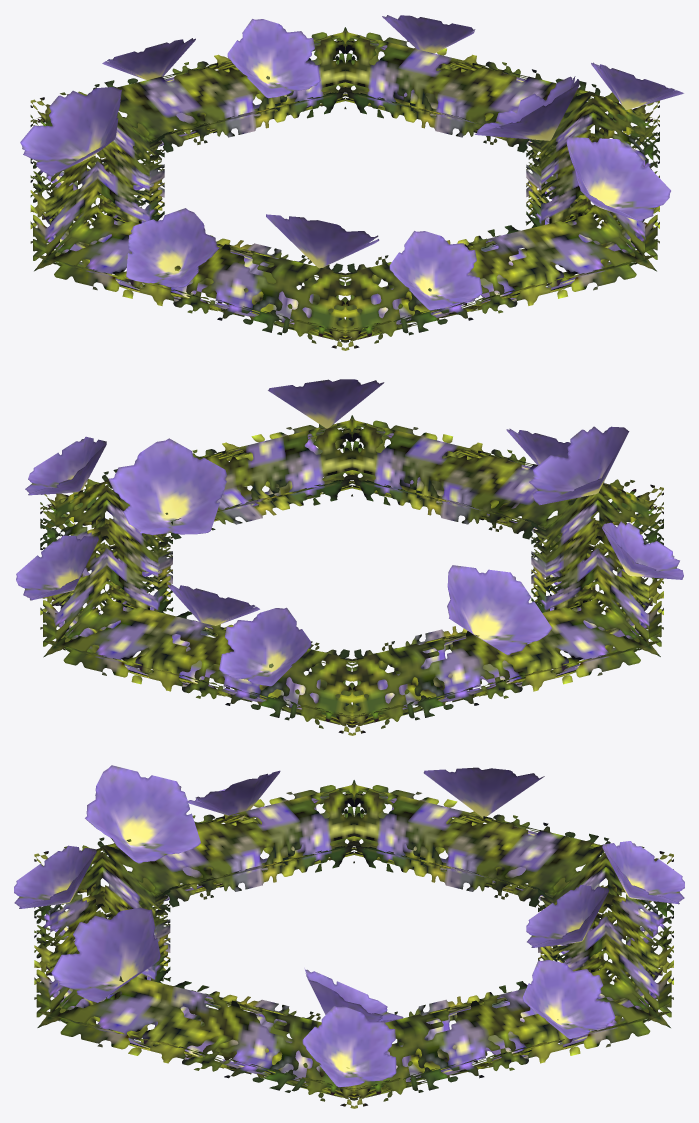
The model's file is flowerswreath02.obj.
3 renders of one model, top to bottom at view 1: azimuth 30°, elevation 25°; view 2: azimuth 150°, elevation 25°; view 3: azimuth 270°, elevation 25°, orthographic. The views are drawn at different scales.
Parts seen in each view (by area): view 1: flowerswreath02; view 2: flowerswreath02; view 3: flowerswreath02.
Part boxes in pixels (bbox=[...]): flowerswreath02: bbox=[20, 15, 683, 350]; flowerswreath02: bbox=[16, 379, 683, 735]; flowerswreath02: bbox=[14, 765, 684, 1108].
Size of the model in its own units: 1.57 by 0.3061 by 1.39.
Materials: 1 (1 with a texture image).
